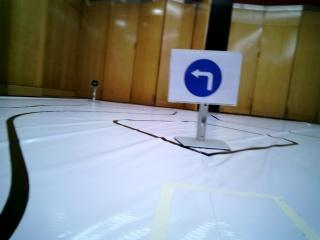left: (173, 50, 235, 101)
